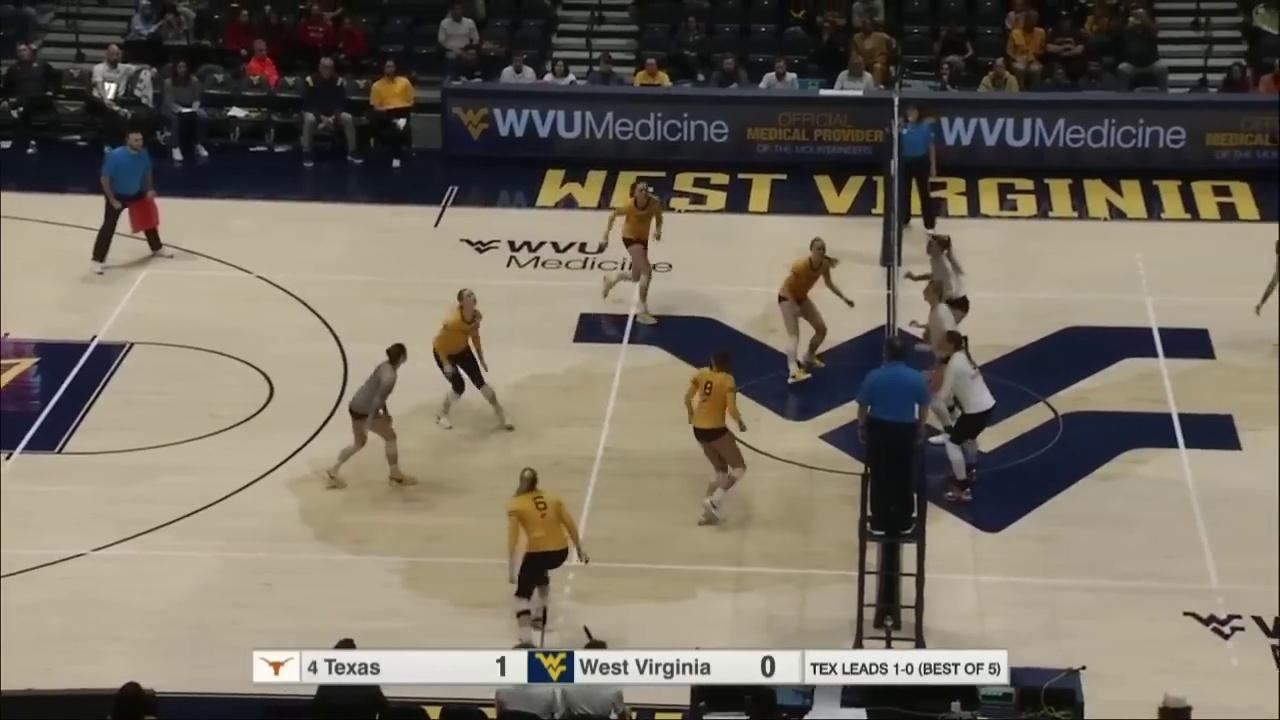player: (500, 467, 600, 649), (325, 341, 414, 490), (684, 343, 749, 532), (429, 291, 514, 433), (925, 326, 990, 507), (782, 241, 853, 377), (602, 172, 664, 325), (915, 228, 976, 375), (915, 278, 966, 447)
refree: (859, 334, 928, 534), (89, 129, 179, 273), (890, 96, 944, 242)
